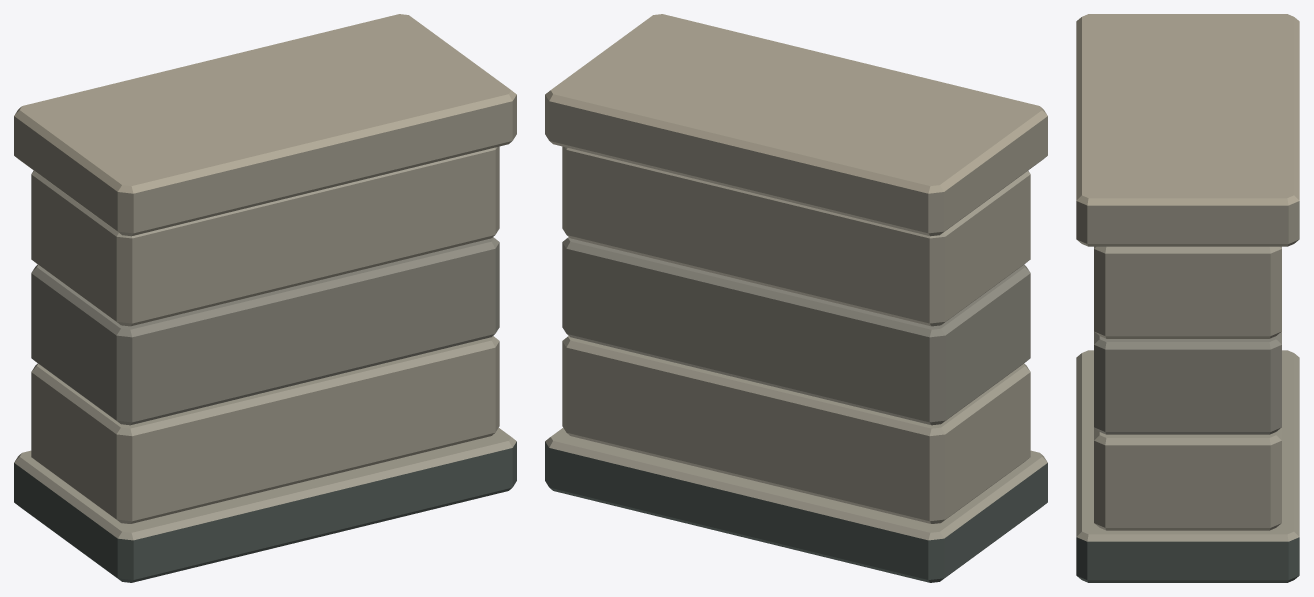
File: wall-short.glb
3 renders of one model, left to right at view 1: azimuth 30°, elevation 25°; view 2: azimuth 150°, elevation 25°; view 3: azimuth 270°, elevation 25°, orthographic. The views are drawn at different scales.
Parts seen in each view (by area): view 1: wall-short__body; view 2: wall-short__body; view 3: wall-short__body.
Boxes of the visible parts, box(x1,y1,x2,y2) form: wall-short__body: box(14, 14, 516, 582); wall-short__body: box(545, 14, 1047, 582); wall-short__body: box(1076, 14, 1299, 582).
Bounding box in the file's own units: 1 × 0.95 × 0.5.
